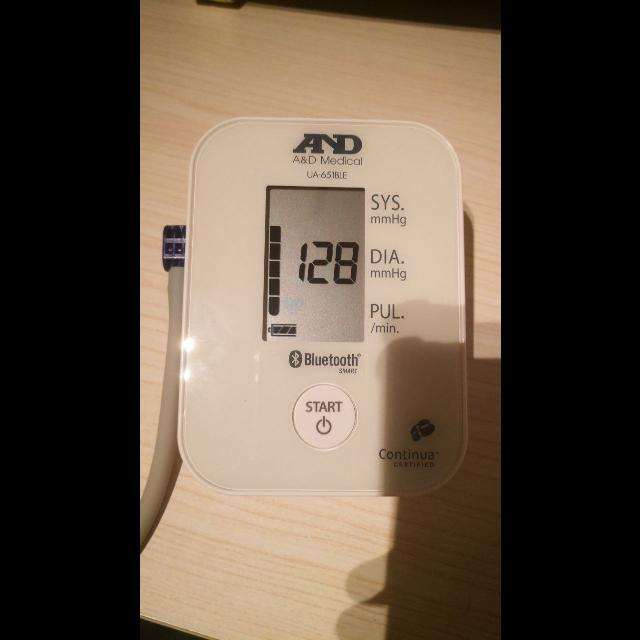Blood-Pressure-Monitor: (176, 116, 468, 496)
